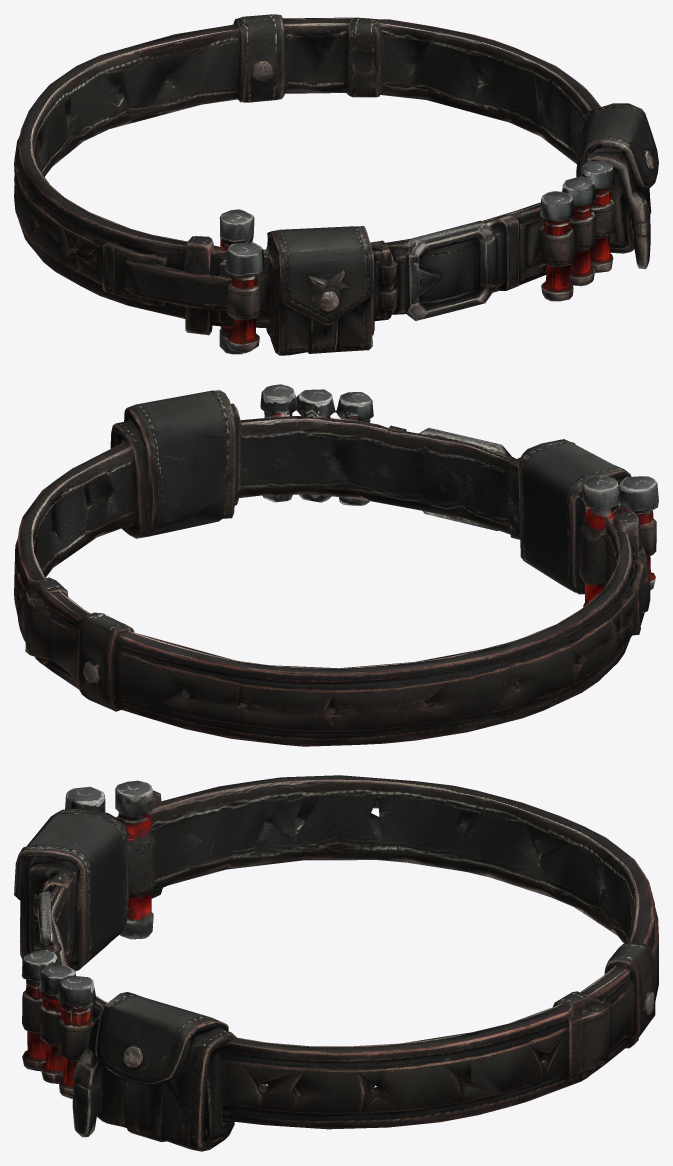
The model's file is Meshy_AI_Bandolier_of_Vials_0601000049_texture.glb.
3 renders of one model, top to bottom at view 1: azimuth 30°, elevation 25°; view 2: azimuth 150°, elevation 25°; view 3: azimuth 270°, elevation 25°, orthographic. The views are drawn at different scales.
Visible parts, largest first — view 1: Mesh_0; view 2: Mesh_0; view 3: Mesh_0.
Boxes of the visible parts, x1,y1,x2,y2 form: Mesh_0: (14, 14, 658, 355); Mesh_0: (14, 384, 658, 746); Mesh_0: (14, 775, 658, 1151).
Size of the model in its own units: 1.91 by 0.4546 by 1.82.
Materials: 1 (1 with a texture image).
